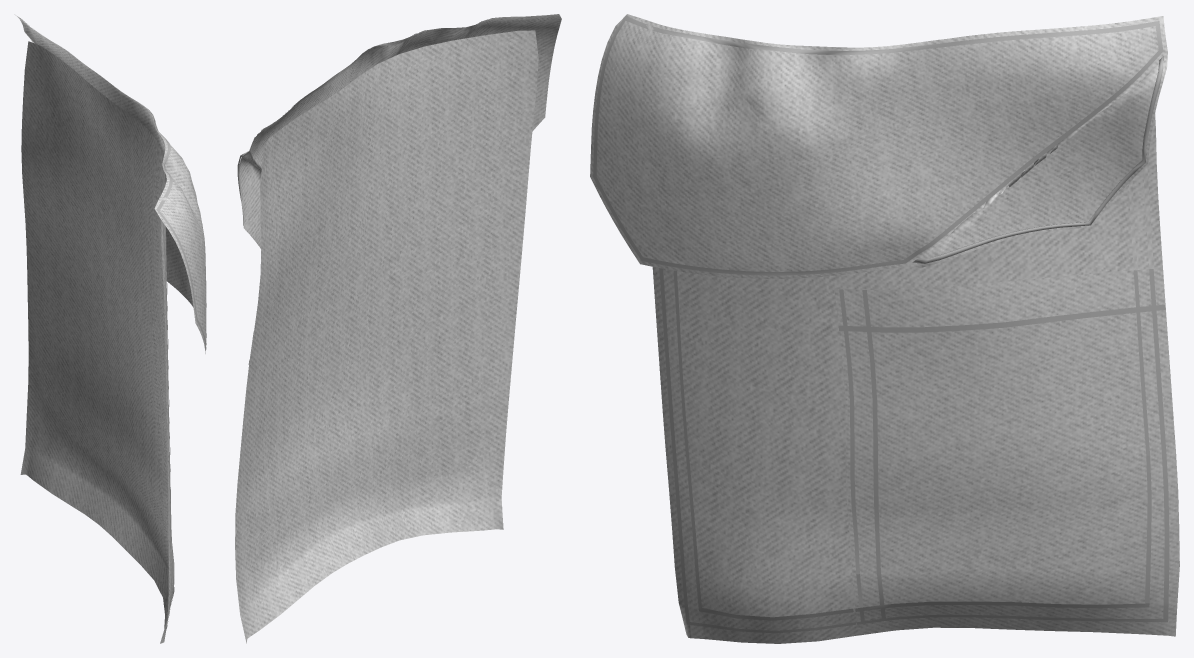
Rendered from Pocket_Right_V1.glb.
The picture shows the model from 3 angles, left to right: view 1: azimuth 30°, elevation 25°; view 2: azimuth 150°, elevation 25°; view 3: azimuth 270°, elevation 25°; orthographic projection. The views are drawn at different scales.
Parts seen in each view (by area): view 1: Pocket_Right_V11, Rope1; view 2: Pocket_Right_V11; view 3: Pocket_Right_V11, Pocket_Right_V1_N1, Rope1.
Part boxes in pixels (bbox=[...]): Pocket_Right_V11: bbox=[14, 14, 206, 643]; Rope1: bbox=[19, 17, 206, 628]; Pocket_Right_V11: bbox=[235, 14, 561, 643]; Pocket_Right_V11: bbox=[590, 14, 1179, 643]; Pocket_Right_V1_N1: bbox=[834, 267, 1179, 636]; Rope1: bbox=[593, 16, 1169, 633].
Bounding box in the file's own units: 0.0557 × 0.2634 × 0.2194.
3 materials, 3 textured.
